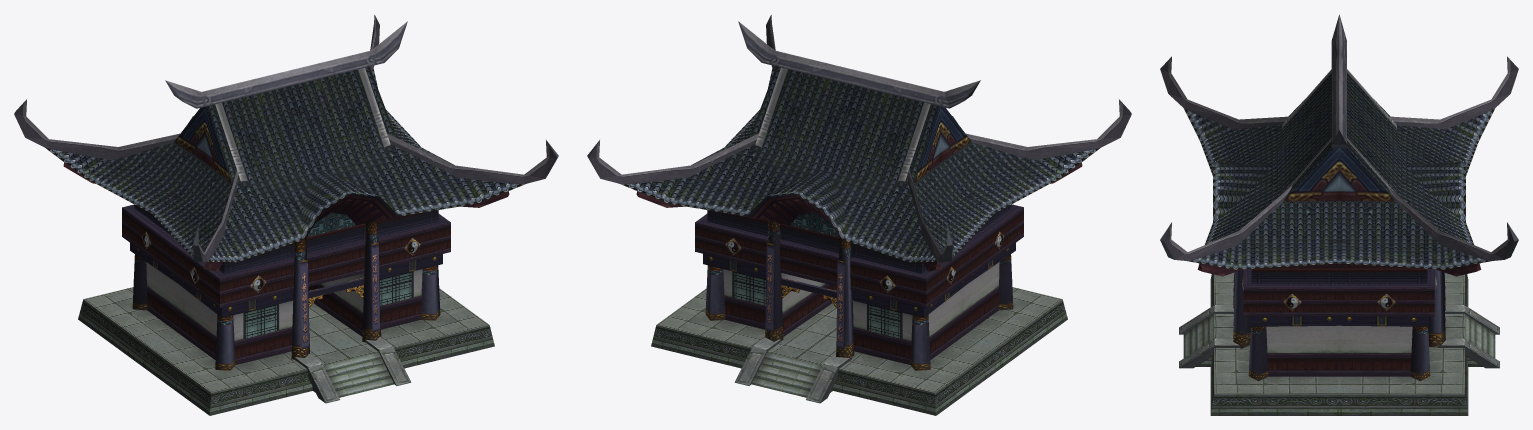
File: QYS_Door_A_02_LOD1.FBX
The picture shows the model from 3 angles, left to right: view 1: azimuth 30°, elevation 25°; view 2: azimuth 150°, elevation 25°; view 3: azimuth 270°, elevation 25°; orthographic projection. The views are drawn at different scales.
Visible parts, largest first — view 1: QYS_Door_A_02_LOD1; view 2: QYS_Door_A_02_LOD1; view 3: QYS_Door_A_02_LOD1.
Boxes of the visible parts, left/top/right/bottom form: QYS_Door_A_02_LOD1: left=14, top=15, right=558, bottom=415; QYS_Door_A_02_LOD1: left=587, top=15, right=1131, bottom=415; QYS_Door_A_02_LOD1: left=1160, top=14, right=1518, bottom=415.
Size of the model in its own units: 2631 by 1940 by 2286.
